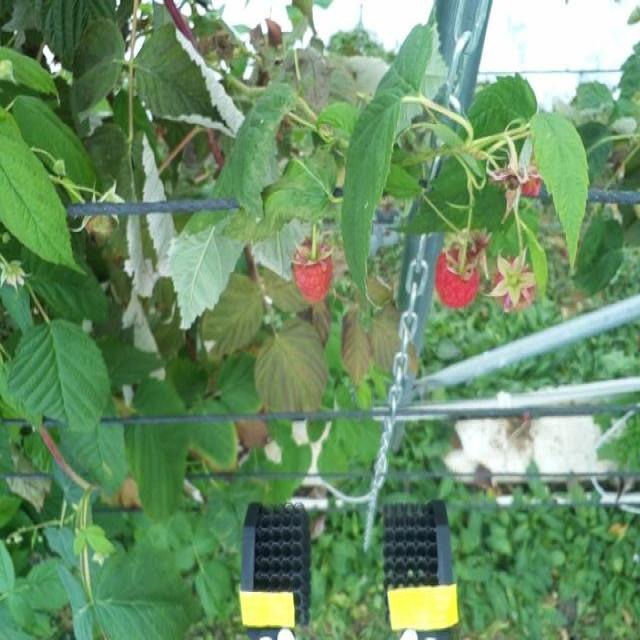Riped berries: (489, 250, 539, 318), (290, 235, 335, 304), (435, 247, 478, 307)
